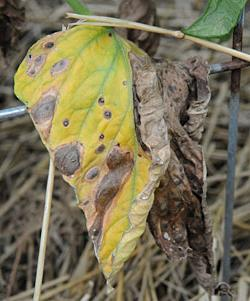Tomato Early blight leaf: (13, 25, 204, 276)
